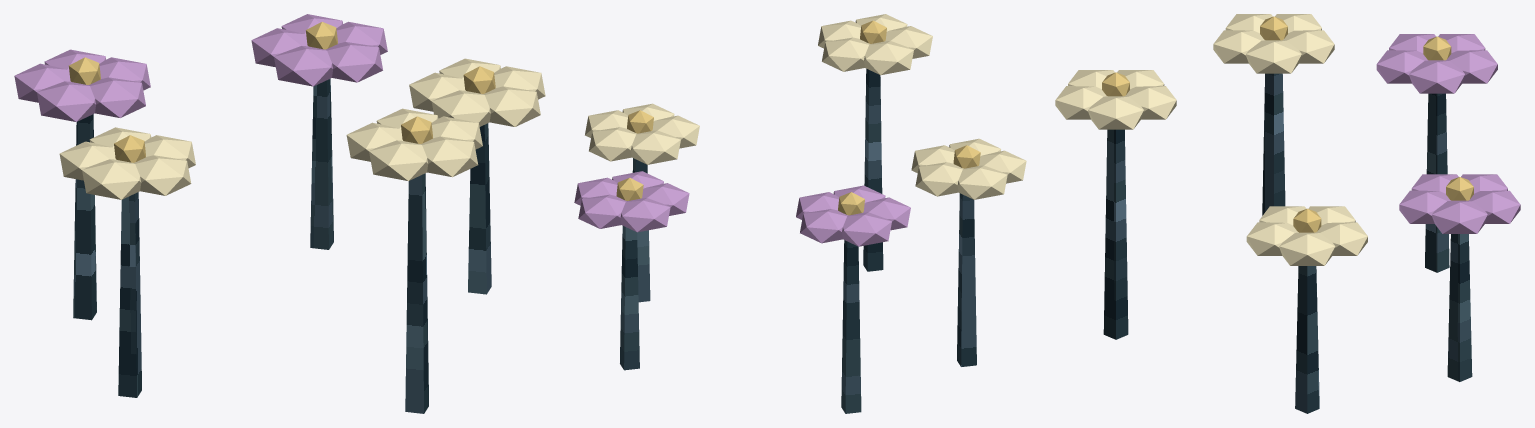
Rendered from enfeite_flores.fbx.
3 renders of one model, left to right at view 1: azimuth 30°, elevation 25°; view 2: azimuth 150°, elevation 25°; view 3: azimuth 270°, elevation 25°, orthographic. The views are drawn at different scales.
Visible parts, largest first — view 1: neve_enfeite_flores; view 2: neve_enfeite_flores; view 3: neve_enfeite_flores.
Part boxes in pixels (x1,y1,x2,y2): neve_enfeite_flores: (14,14,545,413); neve_enfeite_flores: (574,14,1026,413); neve_enfeite_flores: (1055,14,1520,413).
Bounding box in the file's own units: 36.6 × 21.1 × 33.9.
4 materials, 1 textured.
